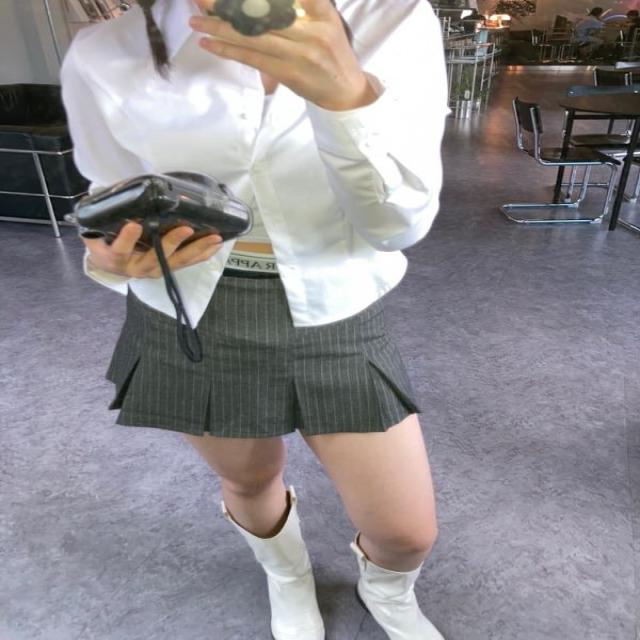shirt: (59, 0, 446, 332)
skirt: (104, 250, 423, 439)
